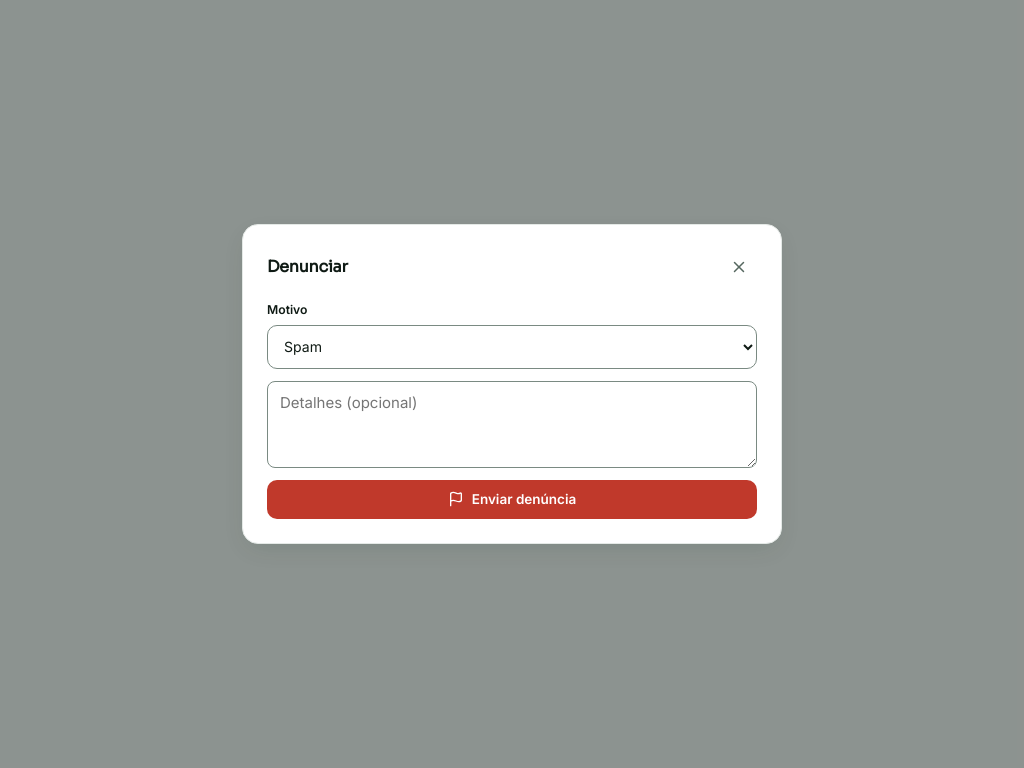
Test: denúncia de um alvo só › perfil: começa em Spam, sem escolha de alvo nem imagem, e envia sem detalhes como null
Expected: the dialog "Denunciar" is shown, [242,224,782,544]
Expected: the dropdown labelled "Motivo" shows "Spam", [267,325,757,369]
Click the button "Enviar denúncia" at [512, 499], box [267,480,757,519]
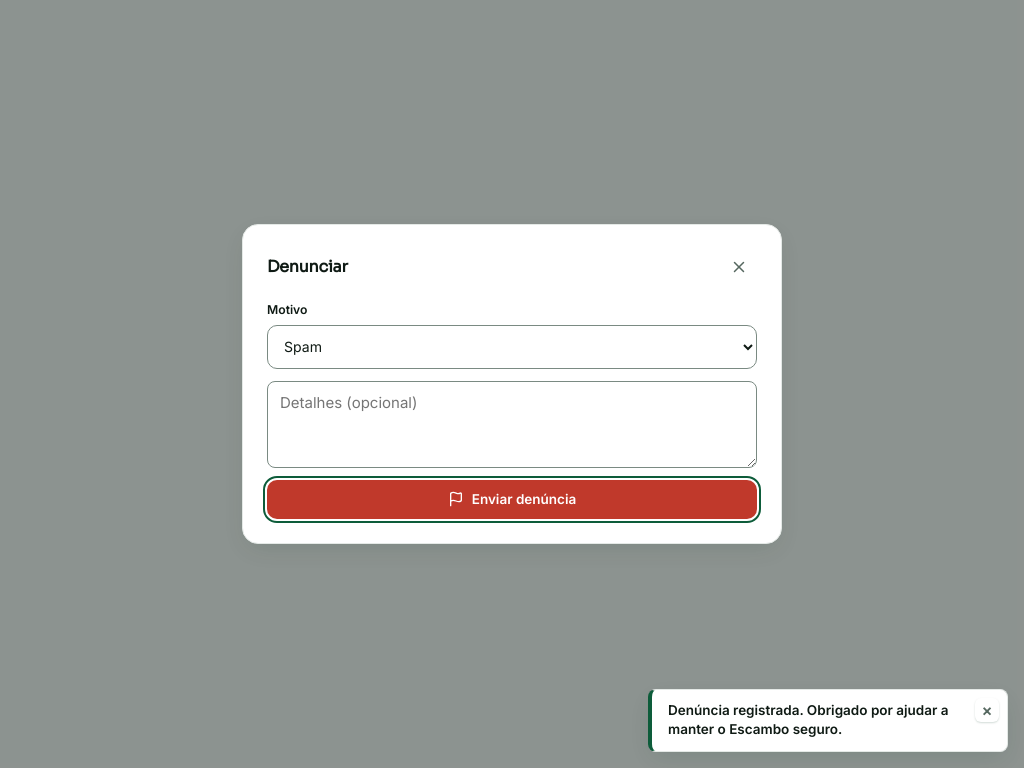
Now the text "Denúncia registrada. Obrigado por ajudar a manter o Escambo seguro." is shown, box [668,701,967,740]
